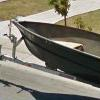Boat: (8, 12, 99, 87)
